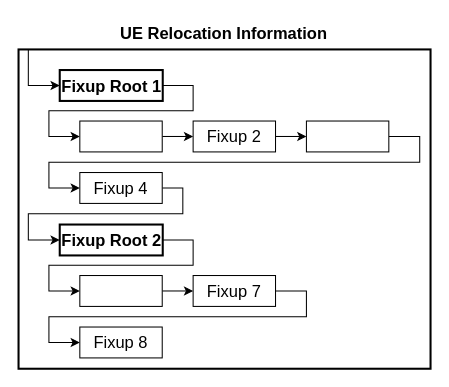
Image size: 449x387. Some labels were removed from this diagram. The shapes that lost their labels are listed below. From the top down, each one's box as (x1, y1, x2, y2) in pixels, then its label:
(79, 120, 162, 152): Fixup 1
(305, 120, 389, 152): Fixup 3
(79, 274, 162, 306): Fixup 6
